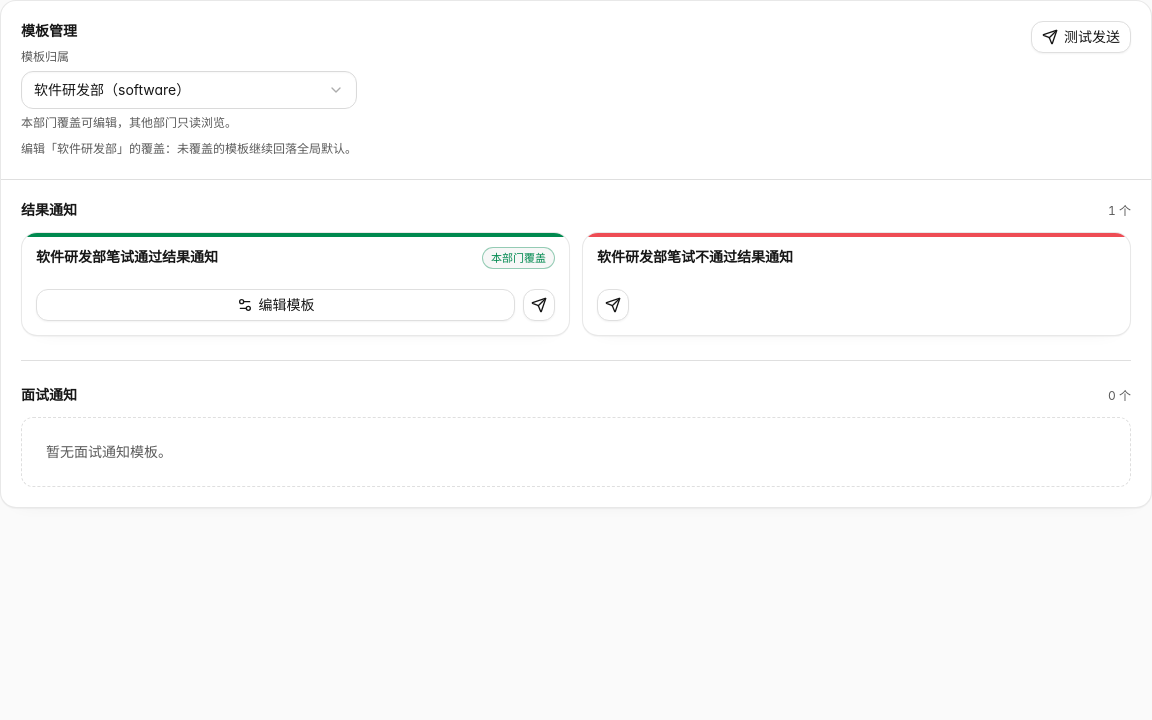
Scenario: EmailTemplateManagementSection › 技术部门的测试发送不列办公阶段模板
The image size is (1152, 720).
Click the button "测试发送".
click(1081, 37)  # box [1031,21,1131,53]
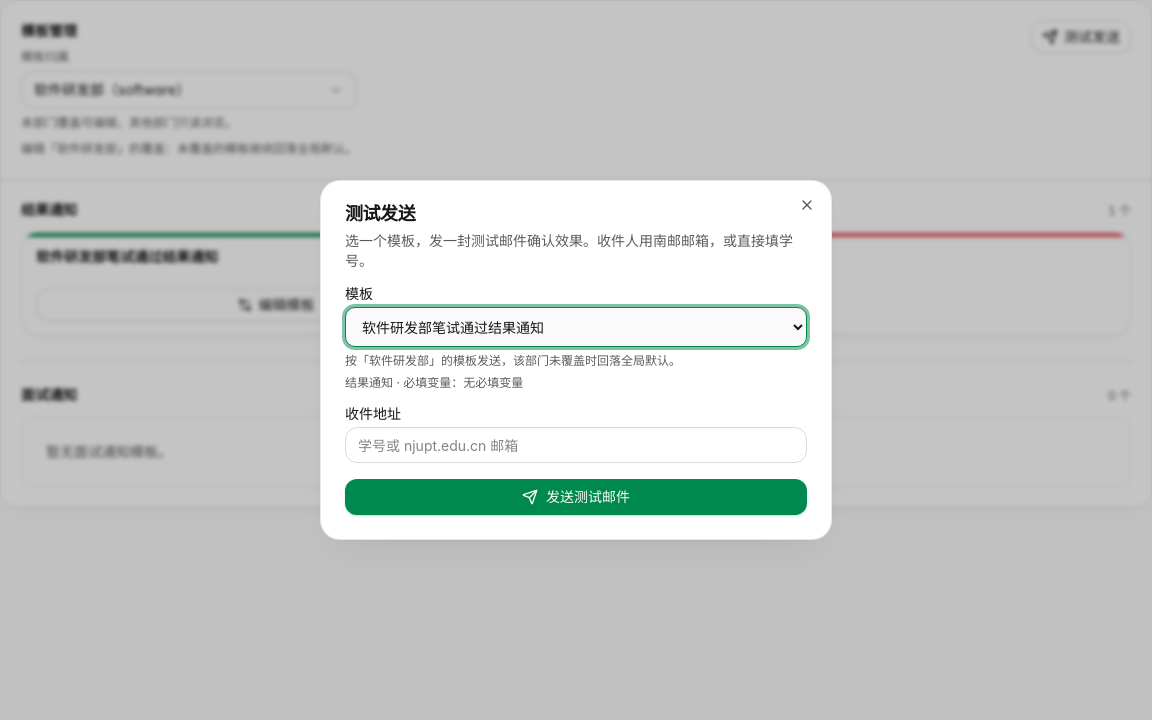
Expected: the dropdown labelled "模板" shows "软件研发部笔试通过结果通知", [345,307,807,347]
